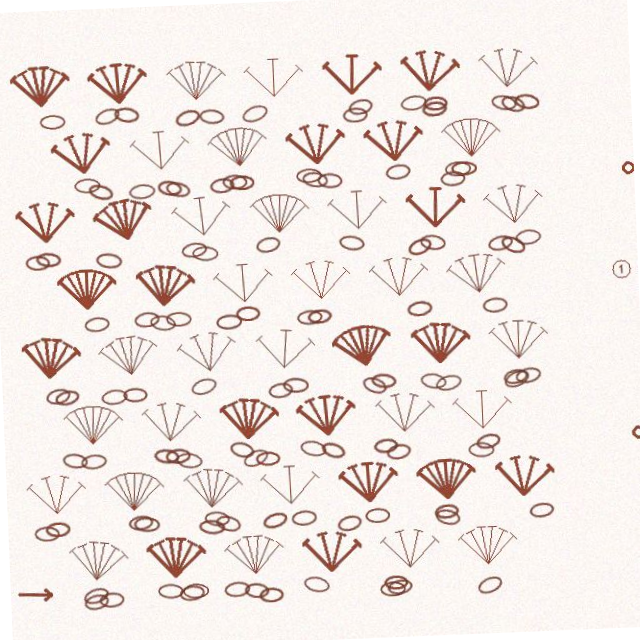chain: (236, 443, 265, 467), (500, 375, 529, 398), (409, 239, 437, 262), (502, 241, 530, 264), (358, 376, 386, 399), (465, 580, 493, 603), (249, 100, 278, 122), (102, 97, 130, 119), (508, 101, 536, 123), (314, 440, 342, 462), (187, 371, 216, 392), (71, 576, 100, 597), (182, 102, 210, 123), (92, 173, 120, 194), (223, 436, 251, 457), (206, 509, 234, 530), (253, 508, 281, 529), (432, 378, 460, 398), (294, 438, 322, 458), (292, 574, 320, 594), (170, 174, 197, 194), (470, 438, 497, 458), (328, 514, 355, 534), (426, 512, 453, 532), (307, 170, 335, 189), (341, 235, 369, 254), (149, 307, 177, 326), (417, 376, 445, 395), (512, 374, 540, 393), (356, 99, 383, 118), (499, 101, 526, 120), (258, 233, 285, 252), (490, 241, 517, 260), (51, 378, 78, 397), (42, 376, 69, 395), (500, 375, 527, 394), (380, 445, 407, 464), (72, 583, 99, 602), (422, 238, 450, 256), (409, 98, 436, 116), (522, 101, 549, 119), (162, 173, 189, 191), (98, 243, 125, 261), (184, 236, 211, 254), (56, 442, 83, 460), (170, 446, 197, 464), (122, 98, 148, 116), (391, 166, 417, 184), (148, 441, 174, 459), (521, 510, 547, 528), (376, 581, 402, 599), (134, 176, 161, 193), (518, 237, 545, 254), (98, 380, 125, 397), (75, 444, 102, 461), (190, 514, 217, 531), (213, 577, 240, 594), (207, 104, 233, 121), (430, 105, 456, 122), (215, 173, 241, 190), (84, 307, 110, 324), (134, 304, 160, 321), (307, 308, 333, 325), (407, 304, 433, 321), (265, 380, 291, 397), (368, 375, 394, 392), (368, 440, 394, 457), (120, 507, 146, 524), (196, 506, 222, 523), (426, 508, 452, 525), (168, 579, 194, 596), (233, 579, 259, 596), (125, 509, 152, 525), (38, 241, 64, 257), (195, 241, 221, 257), (216, 310, 242, 326), (297, 309, 323, 325), (280, 376, 306, 392), (463, 448, 489, 464), (283, 509, 309, 525), (147, 577, 173, 593), (323, 173, 348, 189), (446, 176, 471, 192), (483, 304, 508, 320), (160, 442, 185, 458), (88, 583, 113, 599), (48, 104, 74, 119), (80, 169, 106, 184), (302, 168, 328, 183), (451, 167, 477, 182), (457, 167, 483, 182), (166, 306, 192, 321), (172, 578, 198, 593), (369, 584, 395, 599), (351, 109, 376, 124), (432, 101, 457, 116), (235, 172, 260, 187), (228, 171, 253, 186), (28, 244, 53, 259), (236, 303, 261, 318), (120, 380, 145, 395), (250, 449, 275, 464), (26, 515, 51, 530), (37, 511, 62, 526), (357, 510, 382, 525), (248, 585, 273, 600), (373, 578, 398, 593)
fan: (95, 185, 161, 239), (329, 321, 394, 374), (174, 322, 238, 373), (57, 119, 120, 169), (447, 255, 510, 305), (96, 323, 159, 373), (57, 527, 120, 577), (135, 255, 198, 304), (18, 323, 81, 372), (409, 51, 471, 100), (175, 187, 237, 236), (253, 323, 315, 372), (487, 52, 549, 100), (214, 120, 276, 168), (136, 392, 198, 440), (214, 392, 276, 440), (175, 460, 237, 508), (487, 460, 549, 508), (97, 52, 158, 99), (292, 392, 353, 439), (136, 528, 197, 575), (409, 325, 470, 371), (97, 461, 158, 507), (292, 529, 353, 575), (176, 53, 236, 99), (332, 53, 392, 99), (137, 121, 197, 167), (293, 121, 353, 167), (371, 121, 431, 167), (254, 189, 314, 235), (410, 189, 470, 235), (488, 189, 548, 235), (215, 257, 275, 303), (59, 393, 119, 439), (371, 393, 431, 439), (332, 461, 392, 507), (410, 461, 470, 507), (215, 529, 275, 575), (20, 53, 80, 98), (332, 189, 392, 234), (20, 189, 79, 234), (488, 325, 547, 370), (254, 461, 313, 506), (254, 54, 313, 98), (449, 122, 508, 166), (59, 258, 118, 302), (293, 258, 352, 302), (371, 258, 430, 302), (449, 394, 508, 438), (20, 462, 79, 506), (371, 530, 430, 574), (449, 530, 508, 574)
noise: (6, 575, 44, 591), (612, 270, 634, 292), (625, 436, 640, 454), (627, 173, 640, 188)
